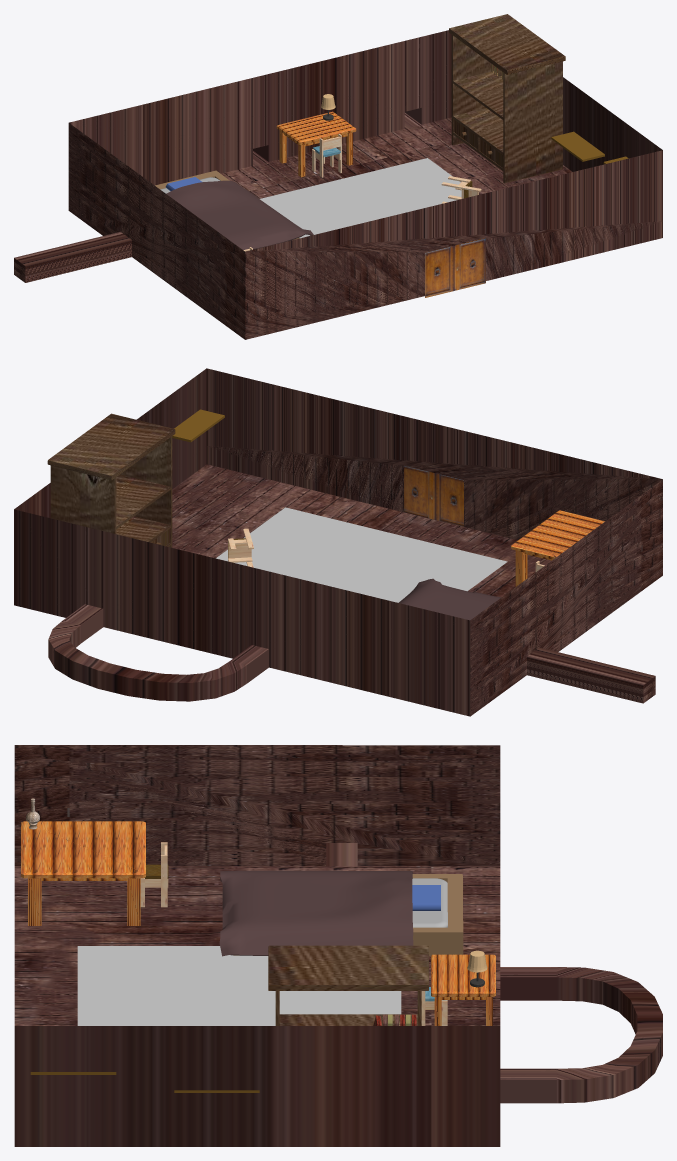
File: stage202.fbx
3 views of the same model, one above another, from view 1: azimuth 30°, elevation 25°; view 2: azimuth 150°, elevation 25°; view 3: azimuth 270°, elevation 25° (orthographic). The views are drawn at different scales.
Visible parts, largest first — view 1: pCube1, pasted__pCylinder3, pasted__pasted__pPlane4, pasted__polySurface2, pasted__pPlane4, pCube10, pCube2, pCube19, pCube22; view 2: pCube1, pasted__pasted__pPlane4, pasted__pCylinder3, pasted__pPlane4, pCube21, pasted__polySurface2, pCube4, pCube22; view 3: pCube1, pasted__pasted__pPlane4, pasted__polySurface2, pasted__pCylinder3, pCube21, pCube10, pasted__polySurface5, pasted__polySurface3, pCube23, pasted__polySurface4.
Boxes of the visible parts, left/top/right/bottom form: pCube1: left=14, top=30, right=662, bottom=339; pasted__pCylinder3: left=449, top=14, right=565, bottom=183; pasted__pasted__pPlane4: left=260, top=158, right=461, bottom=238; pasted__polySurface2: left=166, top=180, right=313, bottom=250; pasted__pPlane4: left=425, top=238, right=485, bottom=297; pCube10: left=276, top=111, right=356, bottom=177; pCube2: left=551, top=131, right=604, bottom=161; pCube19: left=312, top=133, right=341, bottom=177; pCube22: left=441, top=176, right=481, bottom=203; pCube1: left=14, top=368, right=662, bottom=716; pasted__pasted__pPlane4: left=216, top=507, right=507, bottom=602; pasted__pCylinder3: left=47, top=413, right=175, bottom=547; pasted__pPlane4: left=404, top=465, right=463, bottom=526; pCube21: left=511, top=510, right=604, bottom=586; pasted__polySurface2: left=398, top=578, right=500, bottom=620; pCube4: left=172, top=409, right=224, bottom=442; pCube22: left=228, top=528, right=253, bottom=567; pCube1: left=14, top=745, right=662, bottom=1146; pasted__pasted__pPlane4: left=77, top=946, right=401, bottom=1025; pasted__polySurface2: left=219, top=870, right=413, bottom=956; pasted__pCylinder3: left=268, top=945, right=428, bottom=1025; pCube21: left=21, top=821, right=145, bottom=925; pCube10: left=431, top=954, right=495, bottom=1025; pasted__polySurface5: left=233, top=874, right=463, bottom=956; pasted__polySurface3: left=412, top=878, right=447, bottom=927; pCube23: left=140, top=842, right=168, bottom=907; pasted__polySurface4: left=412, top=885, right=440, bottom=910.
Size of the model in its own units: 1475 by 314 by 1149.
